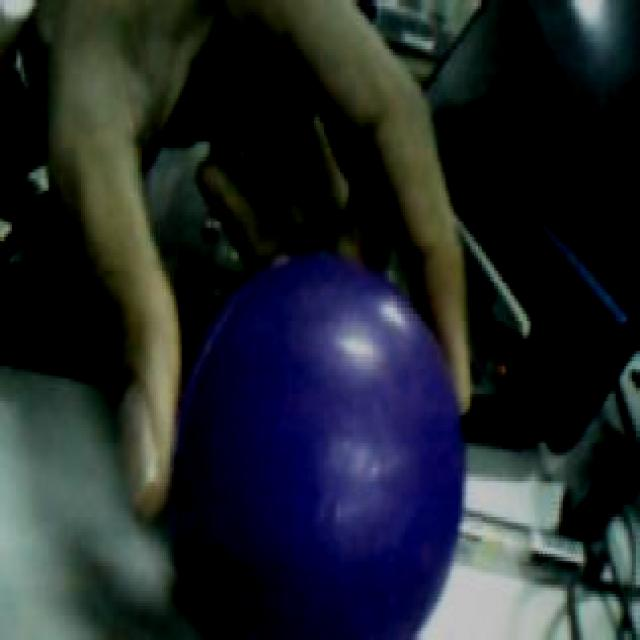BallPurple: (172, 252, 462, 640)
